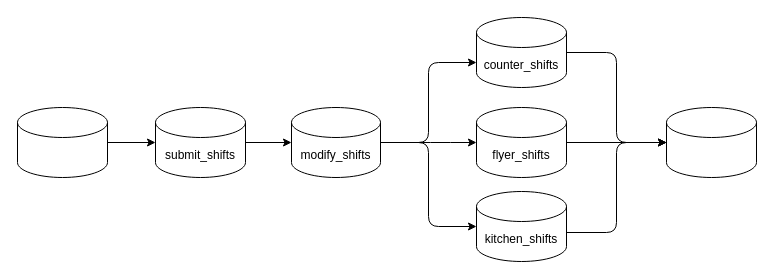
The diagram is 774 pixels wide and 279 high, and some of its shapes have lost their labels. The centre of each missing label's shape, as x and y in pixels:
"complete_shifts" belongs at point (711, 142).
"staffs" belongs at point (62, 142).
